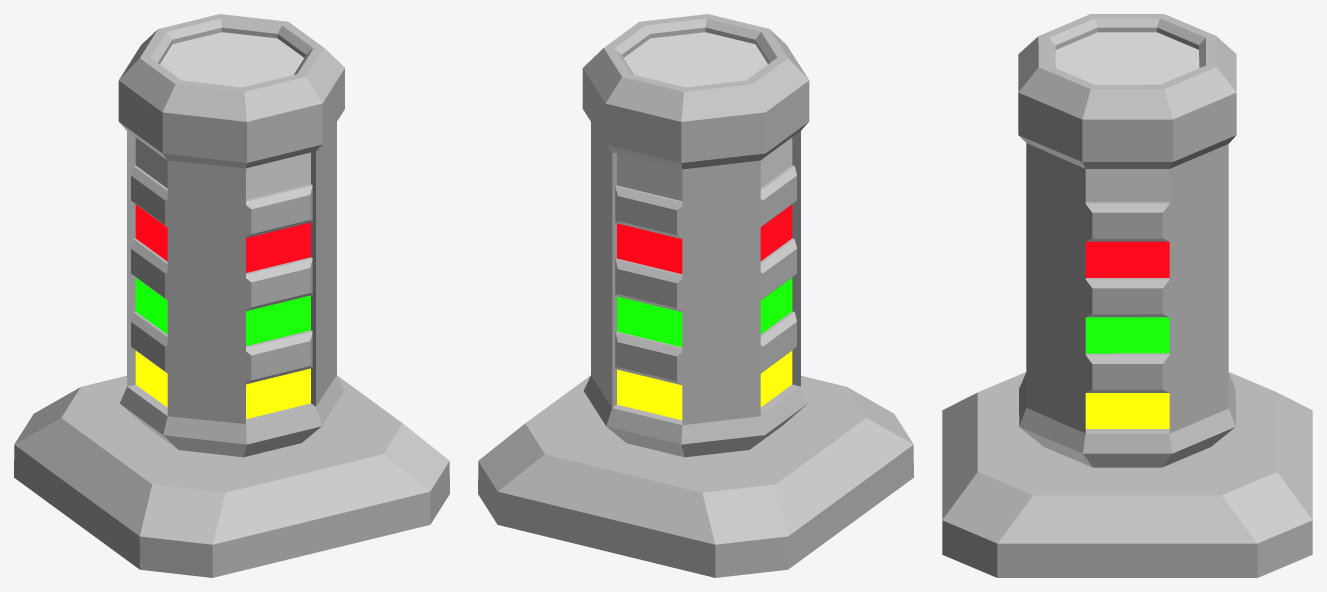
Rendered from condensator.fbx.
The picture shows the model from 3 angles, left to right: view 1: azimuth 30°, elevation 25°; view 2: azimuth 150°, elevation 25°; view 3: azimuth 270°, elevation 25°; orthographic projection. The views are drawn at different scales.
Visible parts, largest first — view 1: Cylinder.001; view 2: Cylinder.001; view 3: Cylinder.001.
Part boxes in pixels (box(x1,y1,x2,y2)): Cylinder.001: box(14, 14, 449, 577); Cylinder.001: box(478, 14, 913, 577); Cylinder.001: box(942, 14, 1312, 577).
Size of the model in its own units: 135 by 180 by 135.
